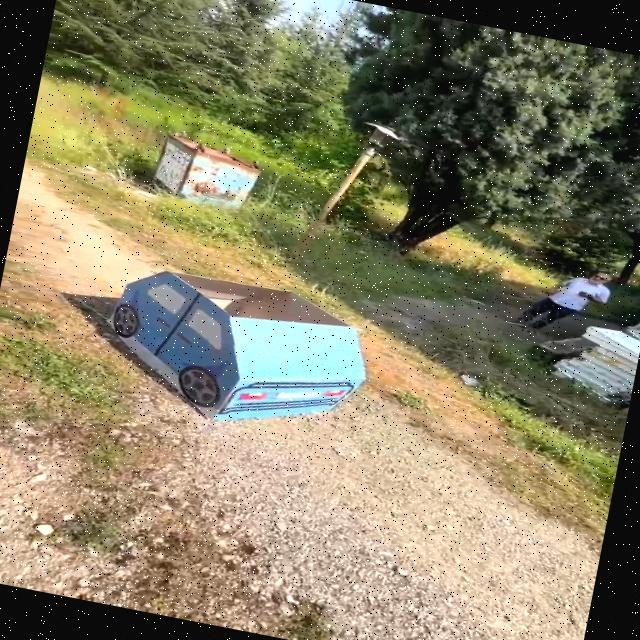blue_car: (64, 231, 405, 459)
